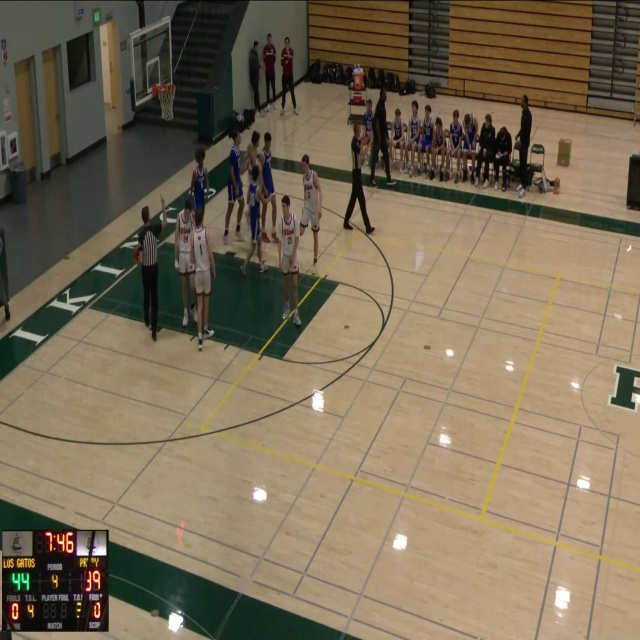Basketball: (133, 245, 142, 263)
